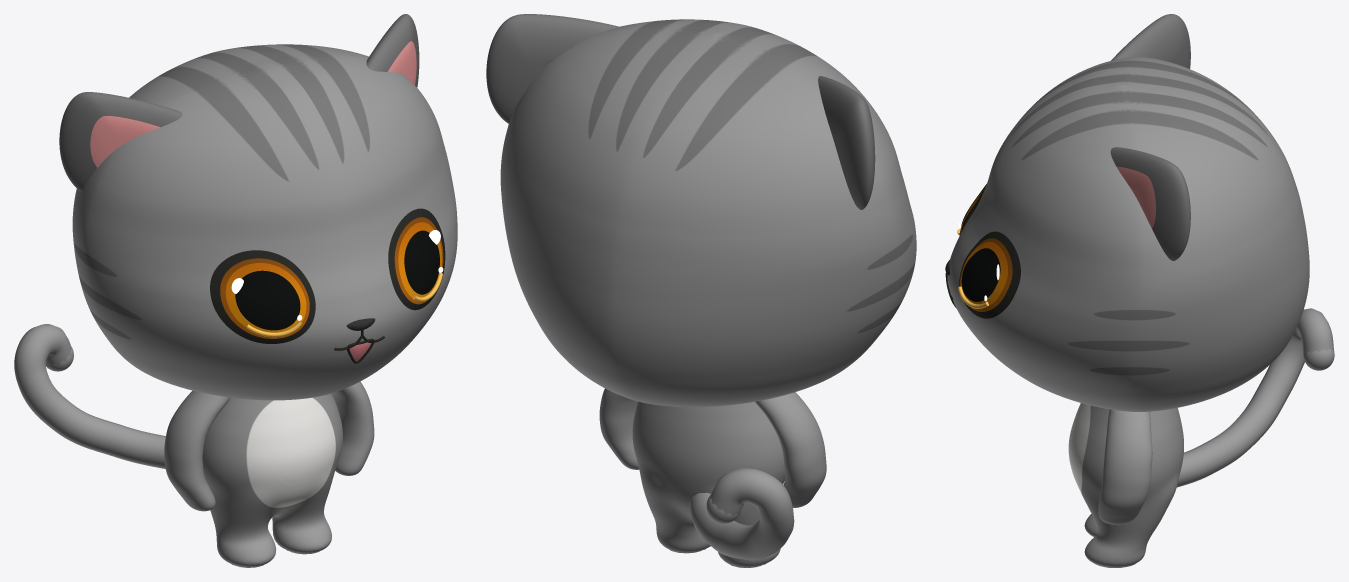
File: CatGray_IP.glb
The picture shows the model from 3 angles, left to right: view 1: azimuth 30°, elevation 25°; view 2: azimuth 150°, elevation 25°; view 3: azimuth 270°, elevation 25°; orthographic projection. The views are drawn at different scales.
Visible parts, largest first — view 1: Head • continuous shaped surface.001, Body • continuous bare skin and painted oval belly.001, Tail • continuous upright curl.001, Ear L • reference gray shell and smaller pink inset.001, Arm L • independent rounded limb.001, Eye L • pupil.001, Arm R • independent rounded limb.001, Ear R • reference gray shell and smaller pink inset.001, Eye L • charcoal socket.001, Eye R • pupil.001, Eye L • orange iris.001, Eye R • charcoal socket.001 (+3 smaller); view 2: Head • continuous shaped surface.001, Body • continuous bare skin and painted oval belly.001, Tail • continuous upright curl.001, Ear R • reference gray shell and smaller pink inset.001, Arm L • independent rounded limb.001, Ear L • reference gray shell and smaller pink inset.001, Arm R • independent rounded limb.001; view 3: Head • continuous shaped surface.001, Body • continuous bare skin and painted oval belly.001, Tail • continuous upright curl.001, Arm R • independent rounded limb.001, Ear R • reference gray shell and smaller pink inset.001, Ear L • reference gray shell and smaller pink inset.001, Eye R • pupil.001, Eye R • charcoal socket.001, Eye R • orange iris.001, Eye R • amber outer edge.001, Tail • rounded tip.001.
Boxes of the visible parts, x1,y1,x2,y2 form: Head • continuous shaped surface.001: (72,44,457,400); Body • continuous bare skin and painted oval belly.001: (202,393,342,567); Tail • continuous upright curl.001: (14,324,165,468); Ear L • reference gray shell and smaller pink inset.001: (59,92,182,191); Arm L • independent rounded limb.001: (164,390,230,511); Eye L • pupil.001: (235,270,300,330); Arm R • independent rounded limb.001: (331,381,374,475); Ear R • reference gray shell and smaller pink inset.001: (366,14,419,87); Eye L • charcoal socket.001: (210,250,315,343); Eye R • pupil.001: (404,230,439,294); Eye L • orange iris.001: (225,263,306,332); Eye R • charcoal socket.001: (388,208,445,310); Head • continuous shaped surface.001: (500,19,916,407); Body • continuous bare skin and painted oval belly.001: (632,401,785,567); Tail • continuous upright curl.001: (689,468,794,560); Ear R • reference gray shell and smaller pink inset.001: (486,14,618,123); Arm L • independent rounded limb.001: (754,392,826,507); Ear L • reference gray shell and smaller pink inset.001: (818,76,875,209); Arm R • independent rounded limb.001: (599,388,639,469); Head • continuous shaped surface.001: (947,57,1309,411); Body • continuous bare skin and painted oval belly.001: (1068,403,1183,567); Tail • continuous upright curl.001: (1177,308,1333,487); Arm R • independent rounded limb.001: (1098,409,1152,524); Ear R • reference gray shell and smaller pink inset.001: (1110,147,1190,260); Ear L • reference gray shell and smaller pink inset.001: (1111,14,1190,68); Eye R • pupil.001: (961,248,1000,301); Eye R • charcoal socket.001: (959,231,1020,318); Eye R • orange iris.001: (960,242,1007,306); Eye R • amber outer edge.001: (960,238,1012,311); Tail • rounded tip.001: (1303,349,1334,370).
Size of the model in its own units: 3.54 by 4.57 by 3.49.
13 materials, 2 textured.
